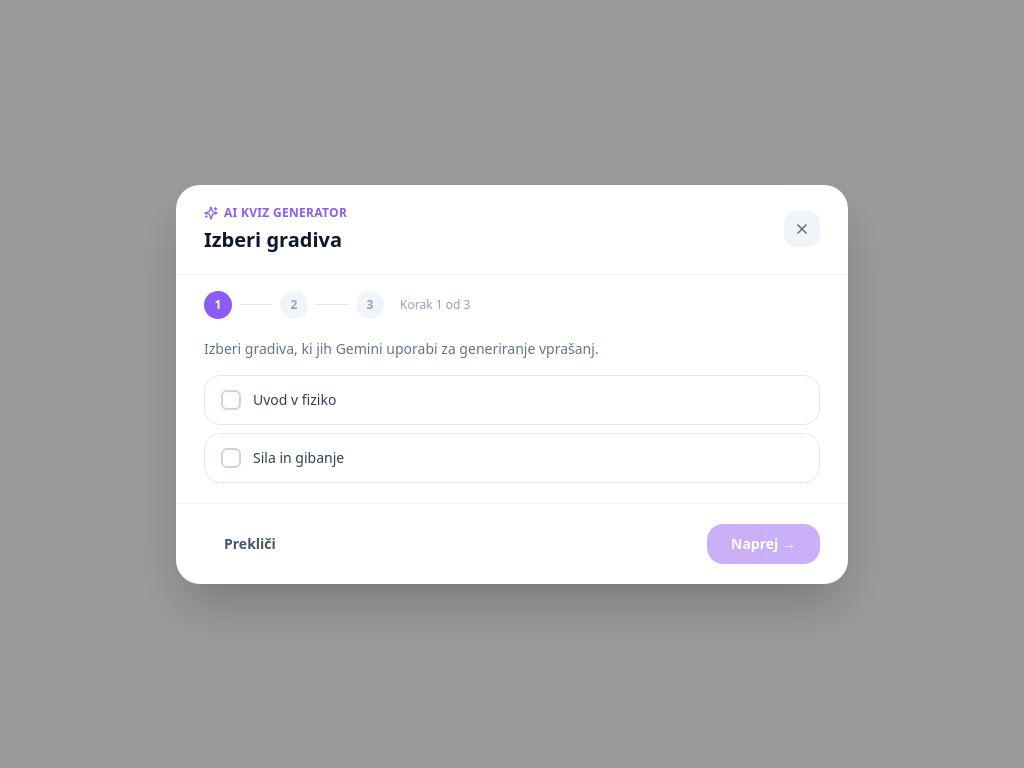
ProfessorQuizModal — navigation › goes back to lesson selection from config step
Click the button "Uvod v fiziko": [295, 399] box [204,374,820,424]
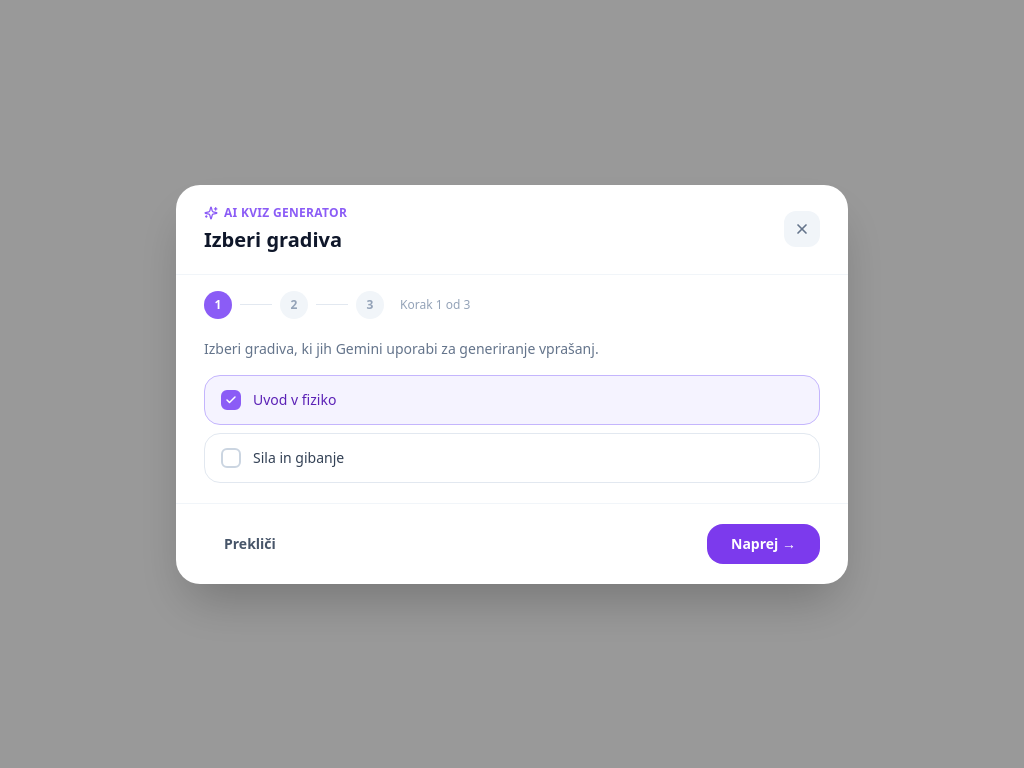
Click the button "Naprej →": [764, 544] box [707,524,820,564]
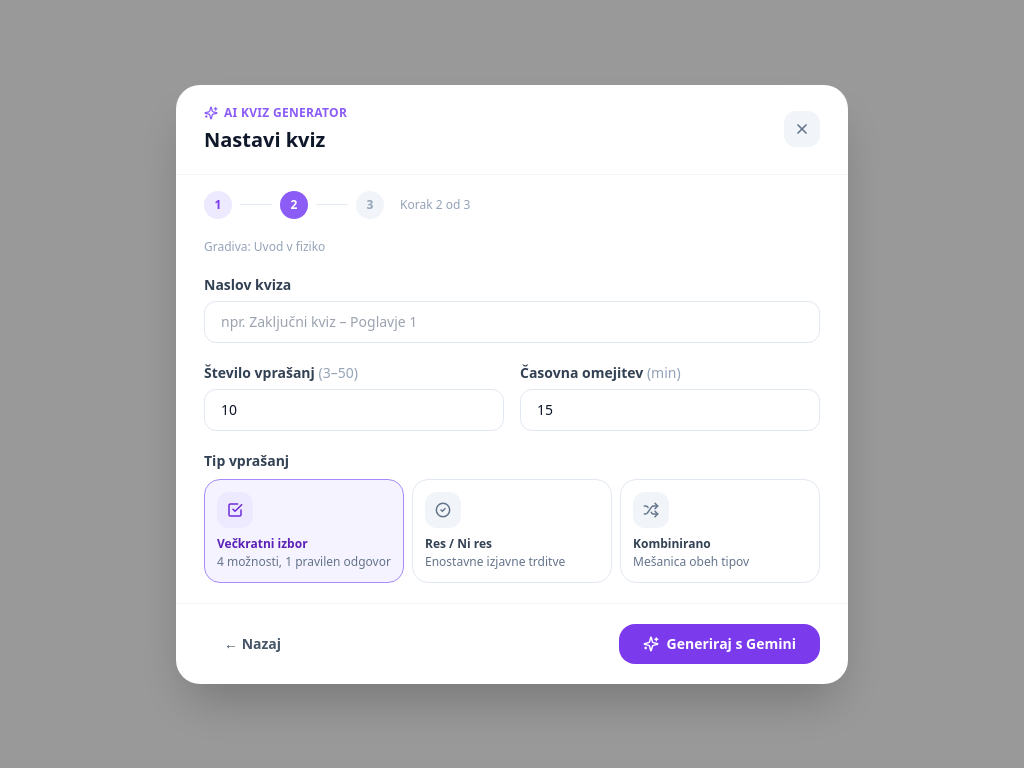
Click the button "← Nazaj": [252, 644] box [204,624,301,664]
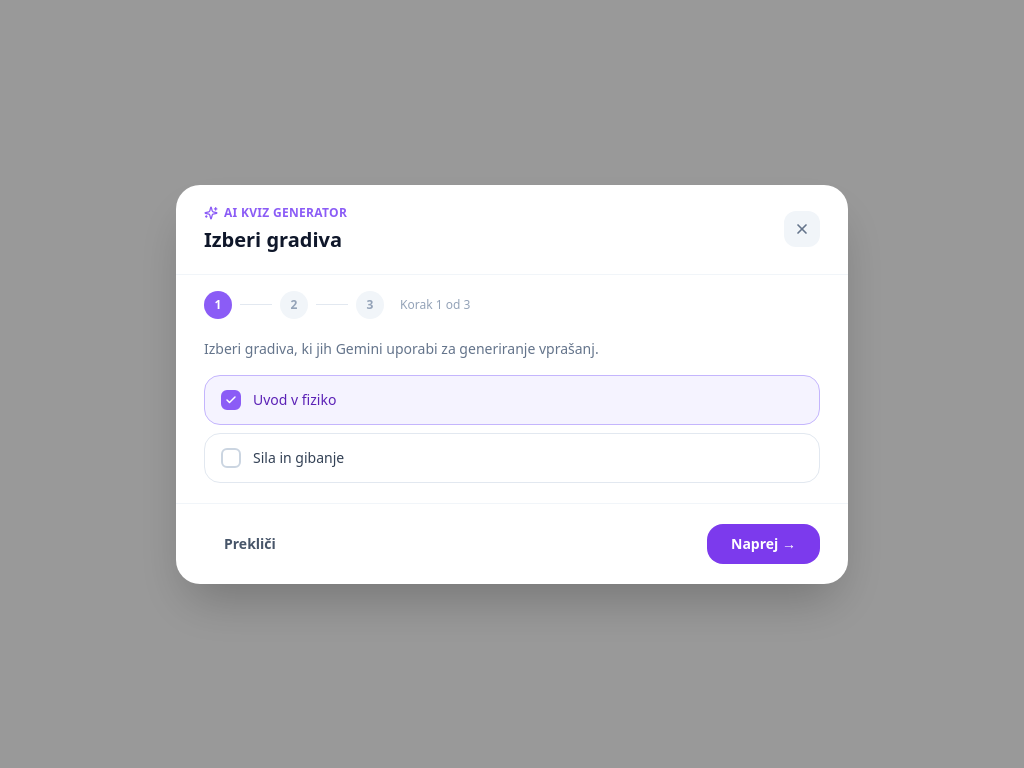
Check: the heading "Izberi gradiva" is shown, box [204,226,347,254]
